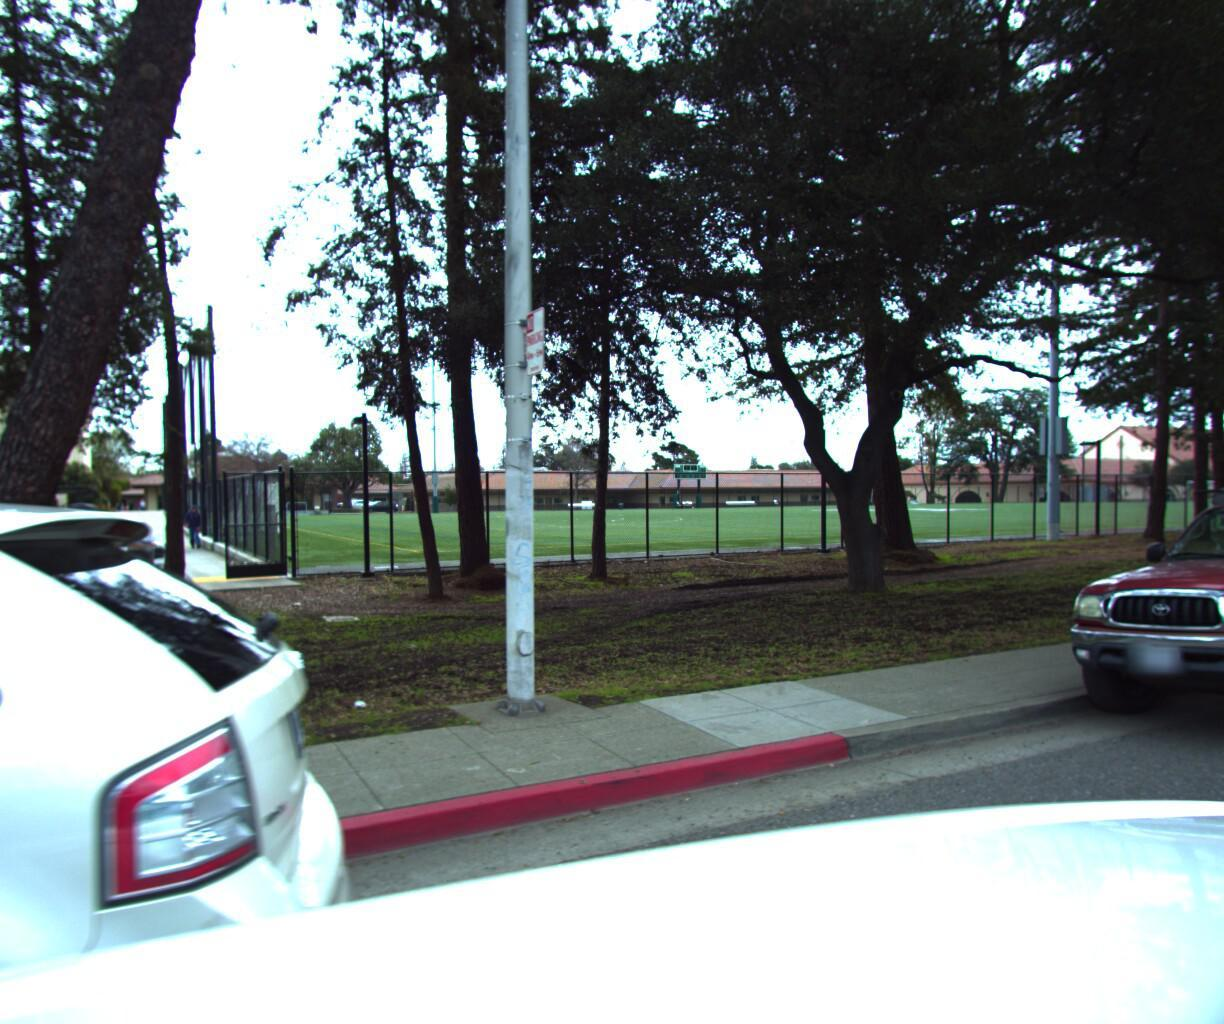car: (1017, 451, 1224, 782)
